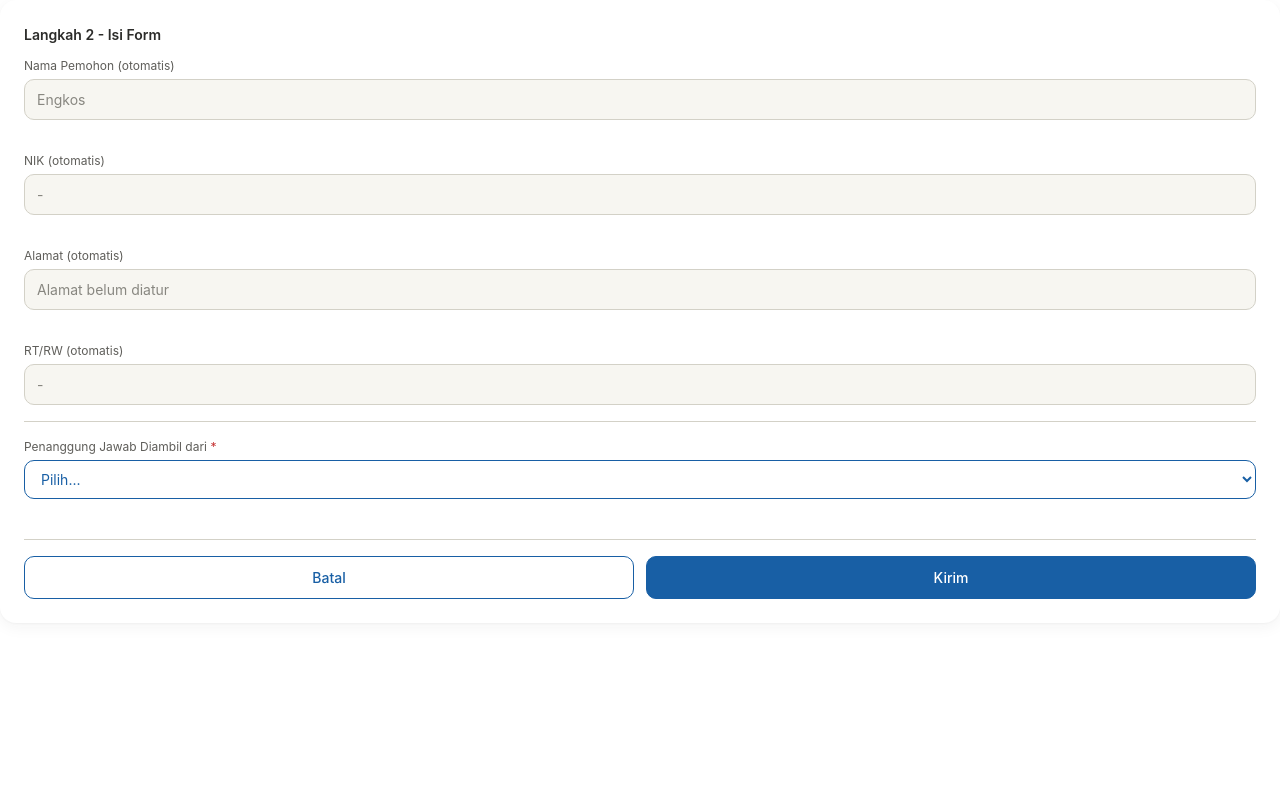
Test case: DynamicSuratForm CPMI emergency contact › fills the relation from the family card for a member chosen from it
The width and height of the screenshot is (1280, 800).
Select "Anggota KK saya" in the dropdown labelled "Penanggung Jawab Diambil dari *" at (640, 480), box [24,460,1256,499]
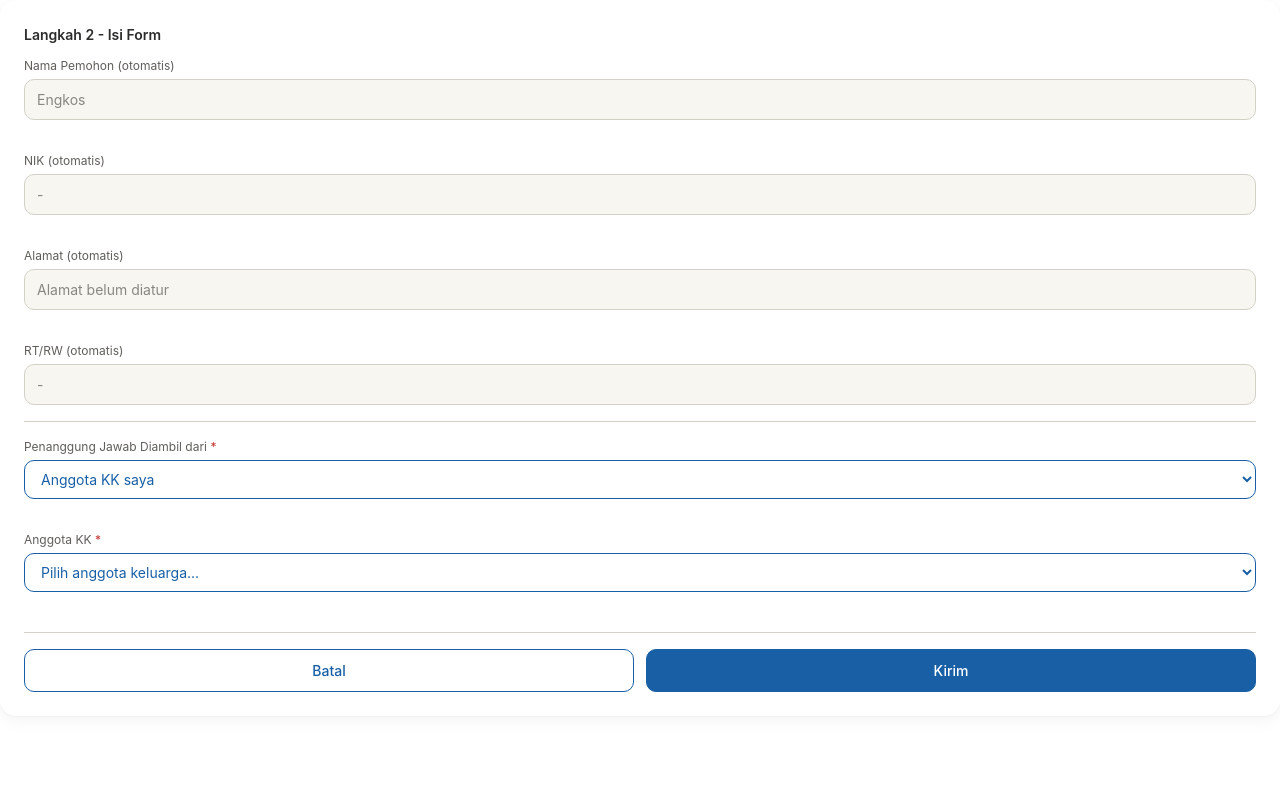
Select "Imas (Istri)" in the dropdown labelled "Anggota KK *" at (640, 572), box [24,553,1256,592]
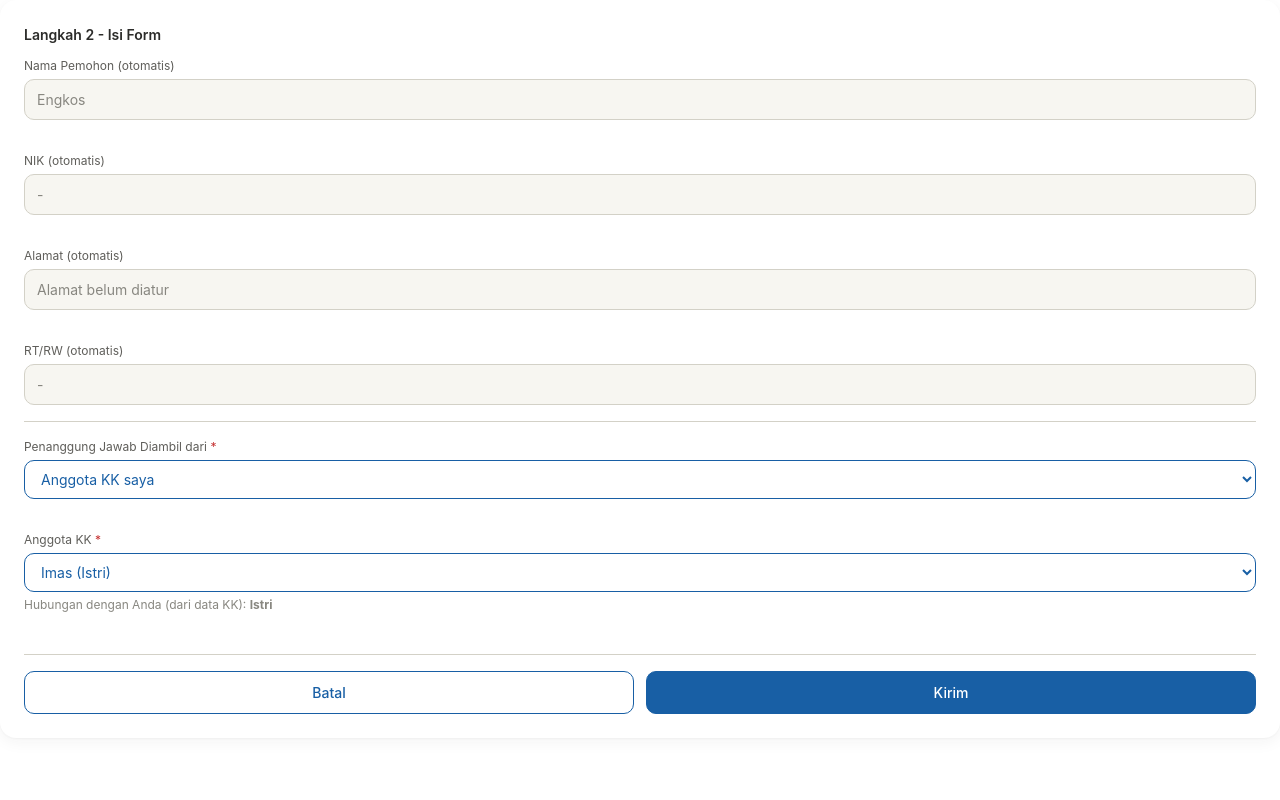
Now the text "Hubungan dengan Anda (dari data KK): Istri" is shown, box [24,597,272,612]
